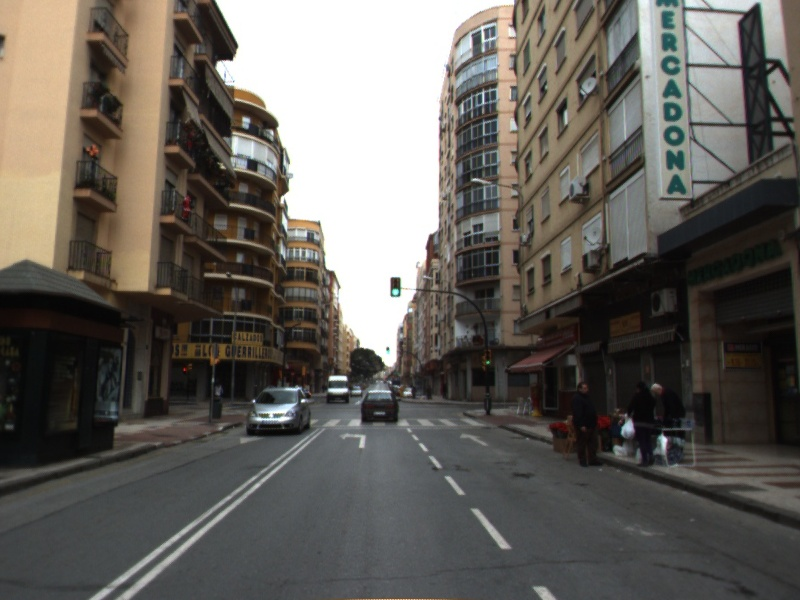LEFT: (337, 430, 368, 450)
STRAIGHT: (457, 430, 491, 448)
